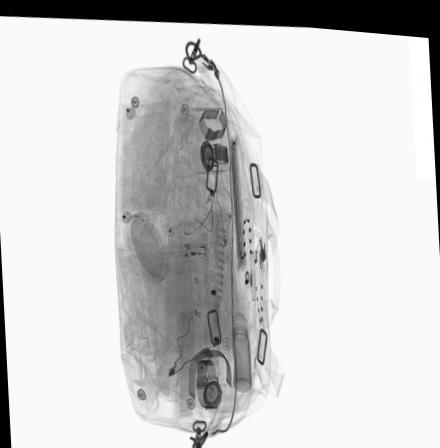Lighter: (257, 238, 267, 284)
